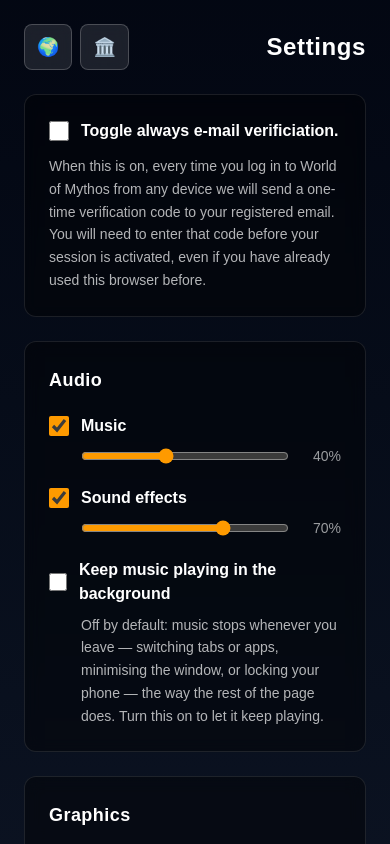
Test: SettingsPage › reverts the optimistic check and shows an error when the request fails
Click the checkbox labelled "Toggle always e-mail verificiation." at (59, 131), box [49, 121, 69, 141]
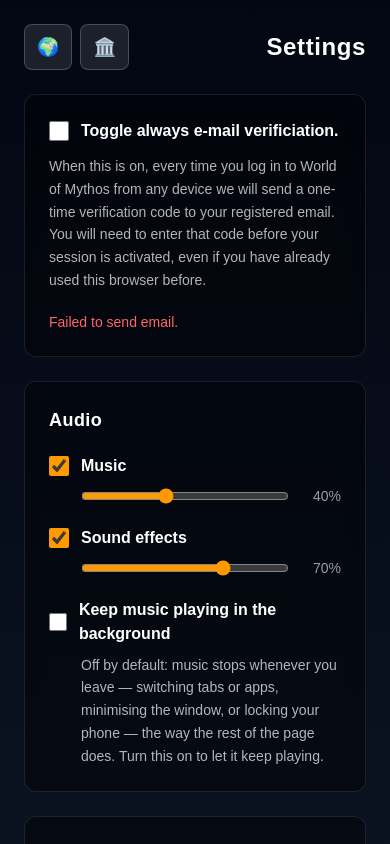
Expected: the text "Failed to send email." is shown, [49, 314, 178, 330]
